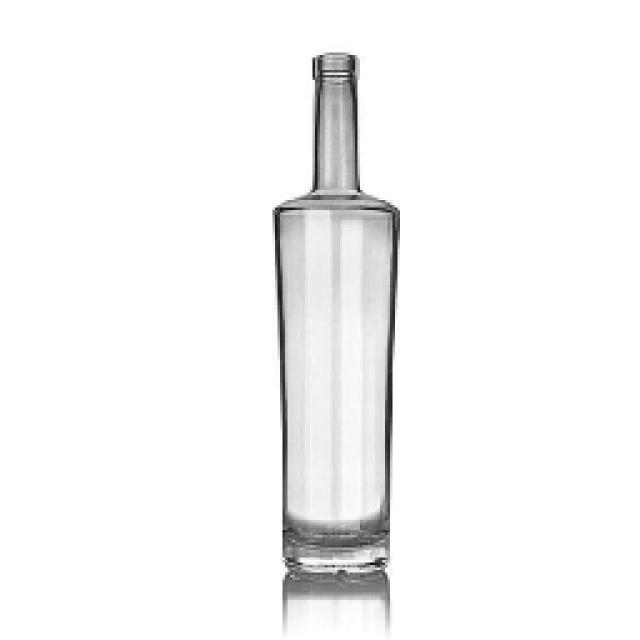glass_beverage_bottles: (268, 53, 400, 580)
